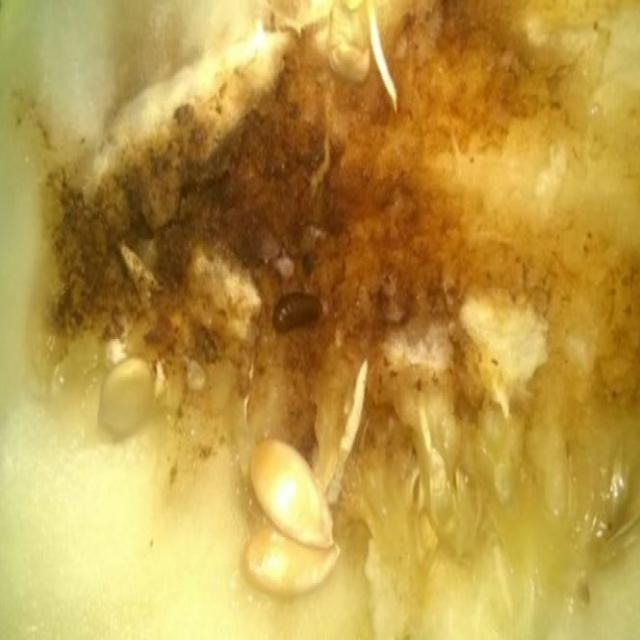Fruit fly: (11, 79, 636, 616), (170, 0, 624, 79)
